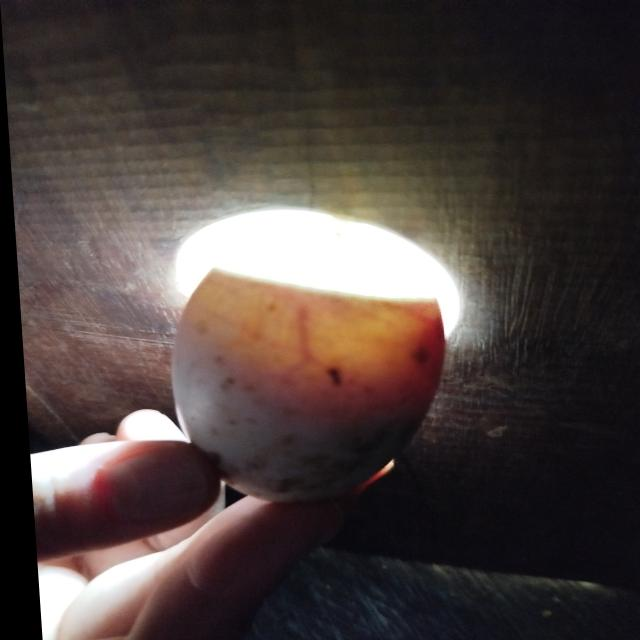Embriao: (165, 320, 429, 504)
